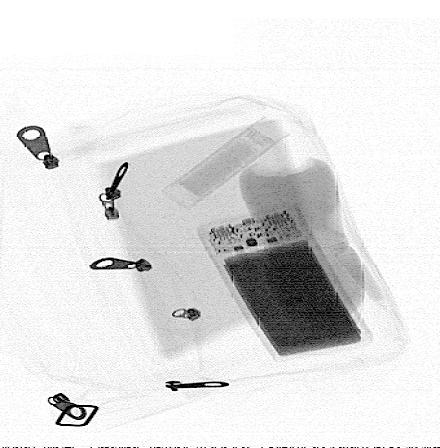Powerbank: (199, 203, 374, 363)
